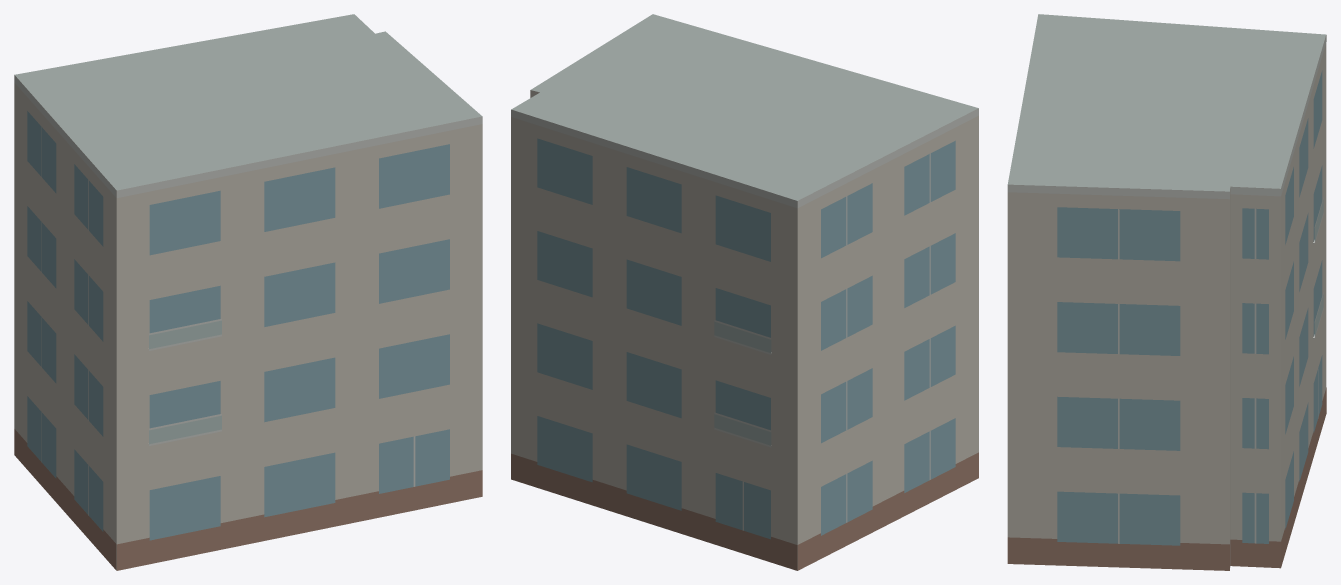
File: survey-upis-32806965.glb
3 views of the same model, side by side, from view 1: azimuth 30°, elevation 25°; view 2: azimuth 150°, elevation 25°; view 3: azimuth 270°, elevation 25° (orthographic). The views are drawn at different scales.
Parts seen in each view (by area): view 1: survey-upis-32806965.tmp; view 2: survey-upis-32806965.tmp; view 3: survey-upis-32806965.tmp.
Boxes of the visible parts, box(x1,y1,x2,y2) form: survey-upis-32806965.tmp: box(14, 14, 482, 570); survey-upis-32806965.tmp: box(511, 14, 978, 570); survey-upis-32806965.tmp: box(1007, 14, 1326, 570).
Bounding box in the file's own units: 12.26 × 12.2 × 9.3.
